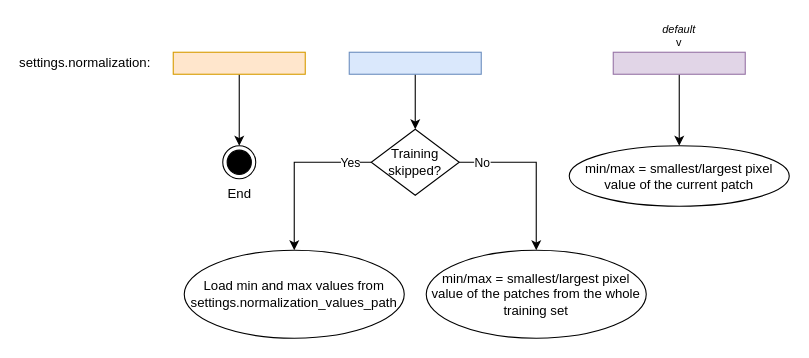
The diagram is 809 pixels wide and 358 high, and some of its shapes have lost their labels. Each missing label, with the centre of its shape:
"patch": (678,62)
"trainset": (414,62)
None: (238,62)
